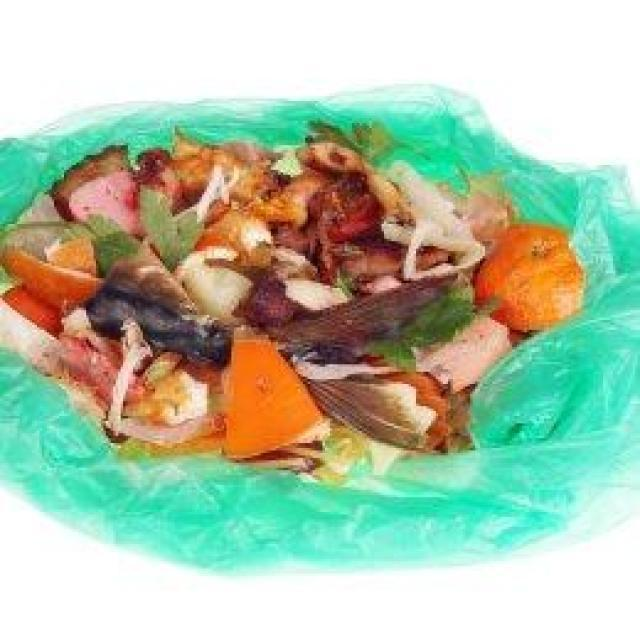Garbage: (0, 130, 588, 482)
